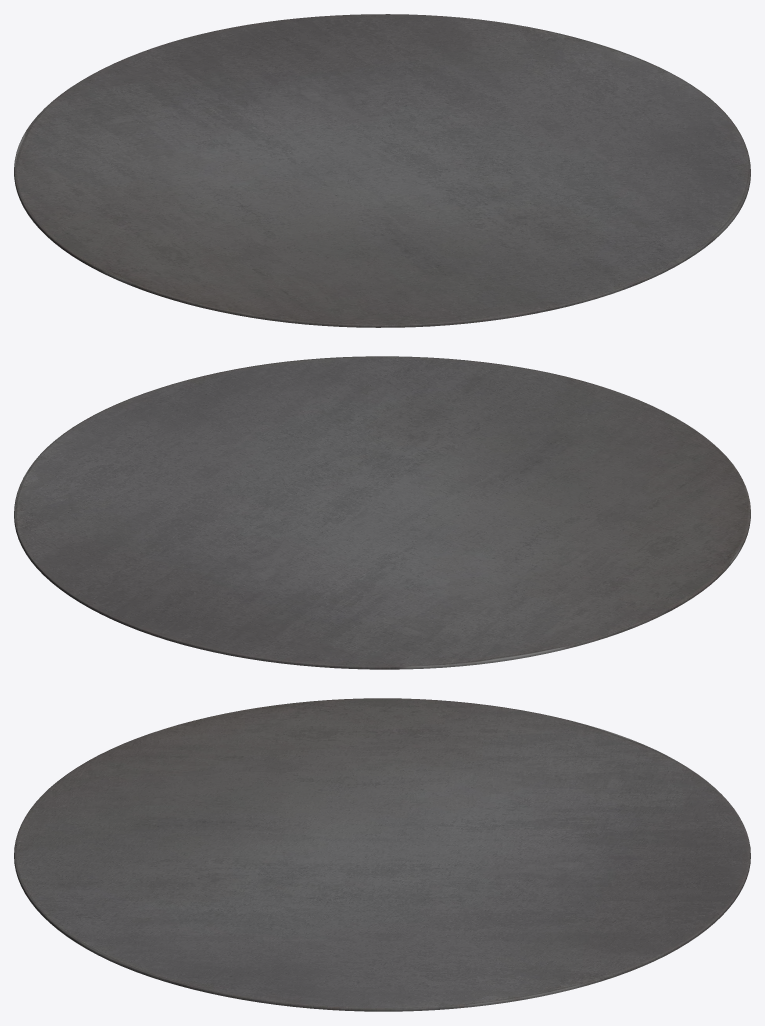
The picture shows the model from 3 angles, top to bottom: view 1: azimuth 30°, elevation 25°; view 2: azimuth 150°, elevation 25°; view 3: azimuth 270°, elevation 25°; orthographic projection.
Parts seen in each view (by area): view 1: rug1; view 2: rug1; view 3: rug1.
Boxes of the visible parts, box(x1,y1,x2,y2) form: rug1: box(14, 14, 750, 327); rug1: box(14, 356, 750, 669); rug1: box(14, 698, 750, 1011).
Size of the model in its own units: 1.73 by 0.00762 by 1.73.
Materials: 1 (1 with a texture image).
